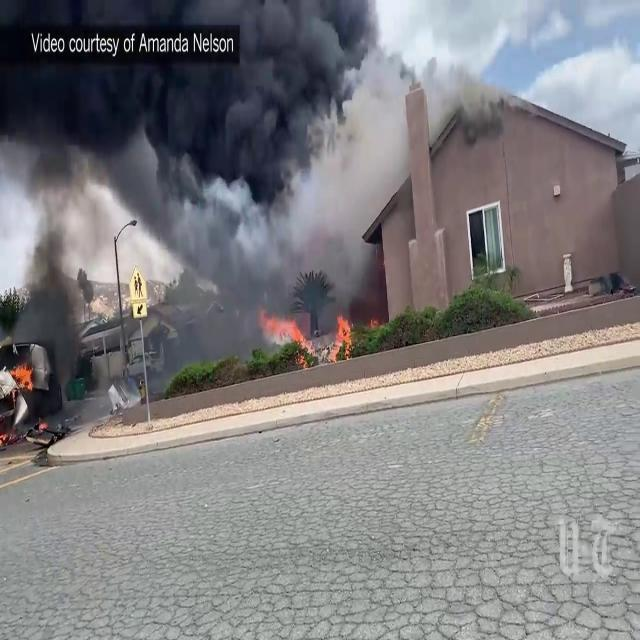Fire: (327, 305, 359, 361)
Smoke: (0, 0, 361, 379)
